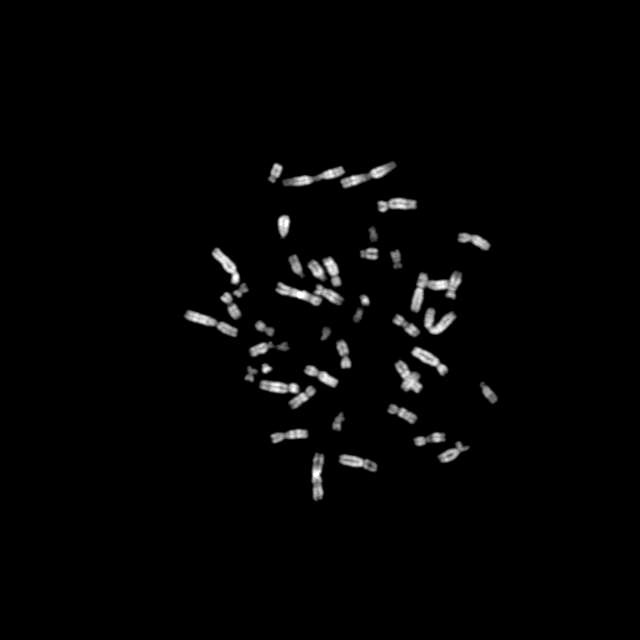chromosome: (185, 310, 237, 338), (342, 162, 396, 188), (283, 167, 345, 187), (275, 282, 321, 306), (411, 346, 447, 376), (212, 248, 240, 284), (396, 361, 422, 394), (424, 308, 456, 334), (304, 366, 338, 388), (438, 441, 469, 463), (314, 284, 344, 306), (312, 454, 326, 501), (412, 273, 428, 313), (458, 232, 490, 252), (338, 455, 378, 471), (288, 386, 316, 408), (392, 314, 420, 336), (388, 404, 417, 424), (221, 292, 241, 320), (378, 198, 417, 212), (323, 256, 341, 286), (272, 429, 308, 443), (259, 381, 299, 393), (446, 271, 462, 299), (414, 432, 446, 446), (337, 340, 351, 370), (480, 382, 498, 404), (402, 372, 420, 392), (308, 260, 324, 282), (289, 254, 303, 278), (250, 342, 272, 356), (418, 280, 448, 290), (278, 215, 290, 239), (256, 320, 274, 336), (268, 164, 282, 182), (390, 250, 402, 270), (333, 412, 345, 431), (360, 247, 378, 259), (234, 283, 248, 297), (244, 366, 256, 382), (368, 227, 378, 243), (353, 309, 363, 323), (321, 328, 331, 340), (360, 294, 370, 306), (277, 342, 288, 352), (262, 364, 272, 374)
